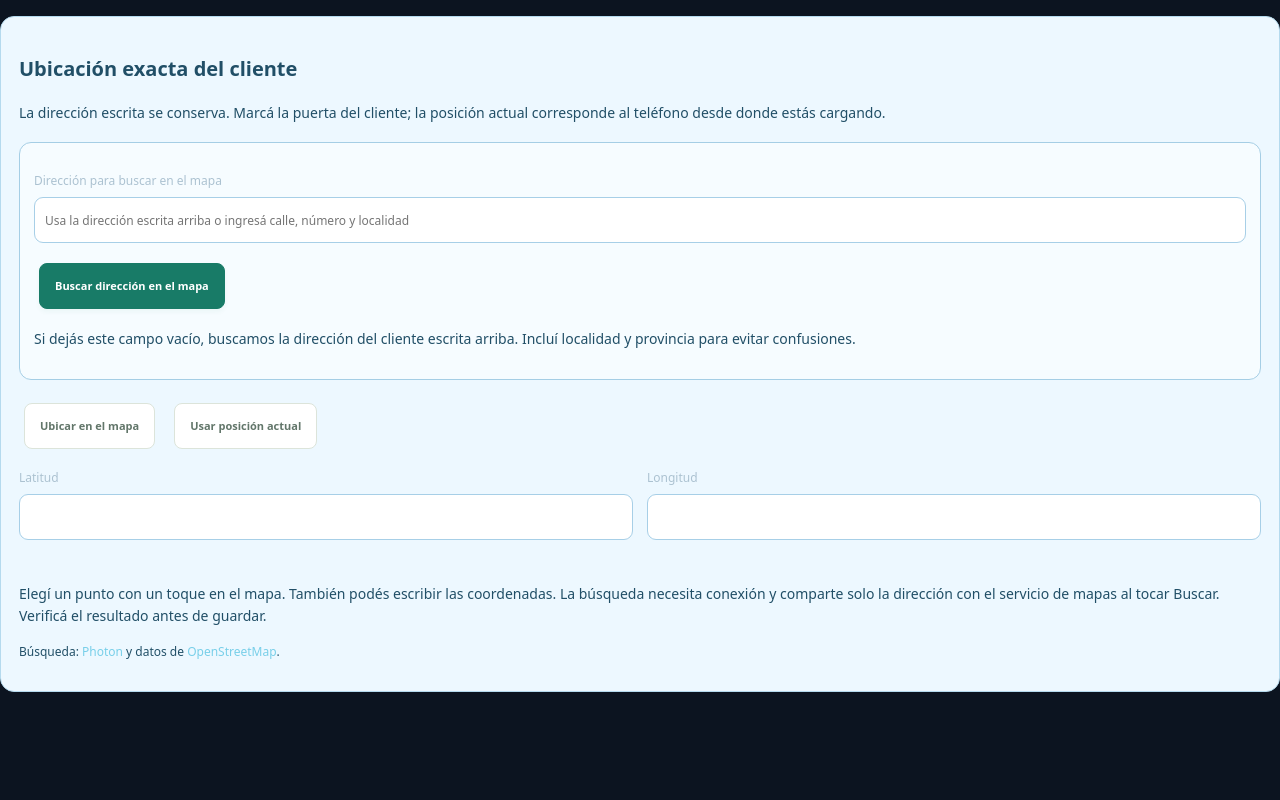
Test: pide GPS solo al tocar el botón y conserva coordenadas para guardar
The image size is (1280, 800).
Click the button "Usar posición actual" at x=246, y=426, box 174,403 -> 317,449
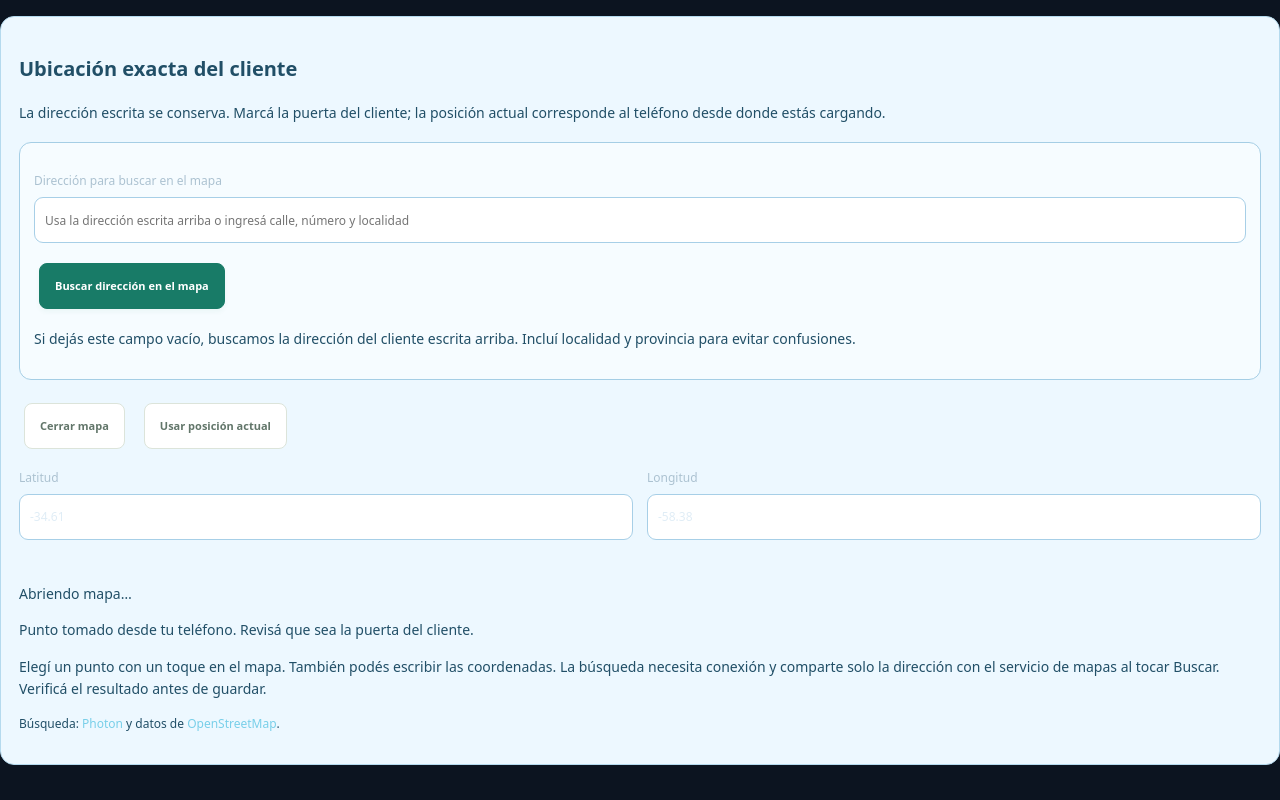
Expected: the button "Cerrar mapa" is shown, 24,403 -> 125,449
